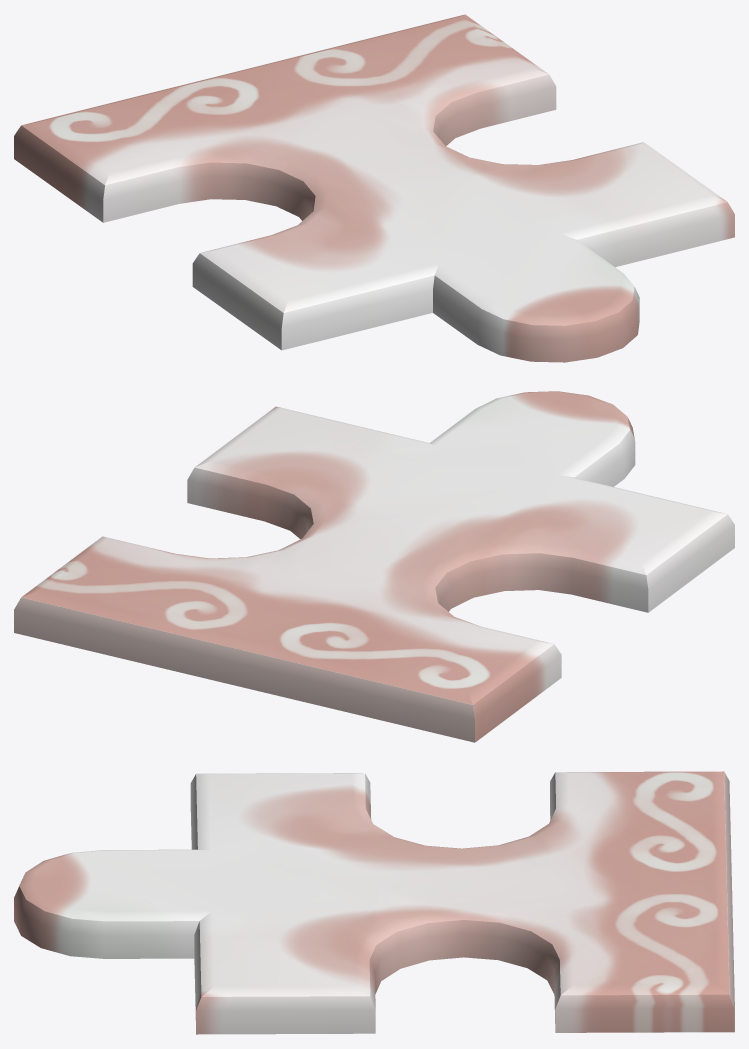
The model's file is puzzle2.fbx.
3 renders of one model, top to bottom at view 1: azimuth 30°, elevation 25°; view 2: azimuth 150°, elevation 25°; view 3: azimuth 270°, elevation 25°, orthographic. The views are drawn at different scales.
Parts seen in each view (by area): view 1: polySurface2; view 2: polySurface2; view 3: polySurface2.
Part boxes in pixels (left/top/right/bottom): polySurface2: left=14, top=14, right=734, bottom=362; polySurface2: left=14, top=391, right=734, bottom=742; polySurface2: left=14, top=771, right=734, bottom=1034.
Bounding box in the file's own units: 1.01 × 0.0821 × 1.34.
